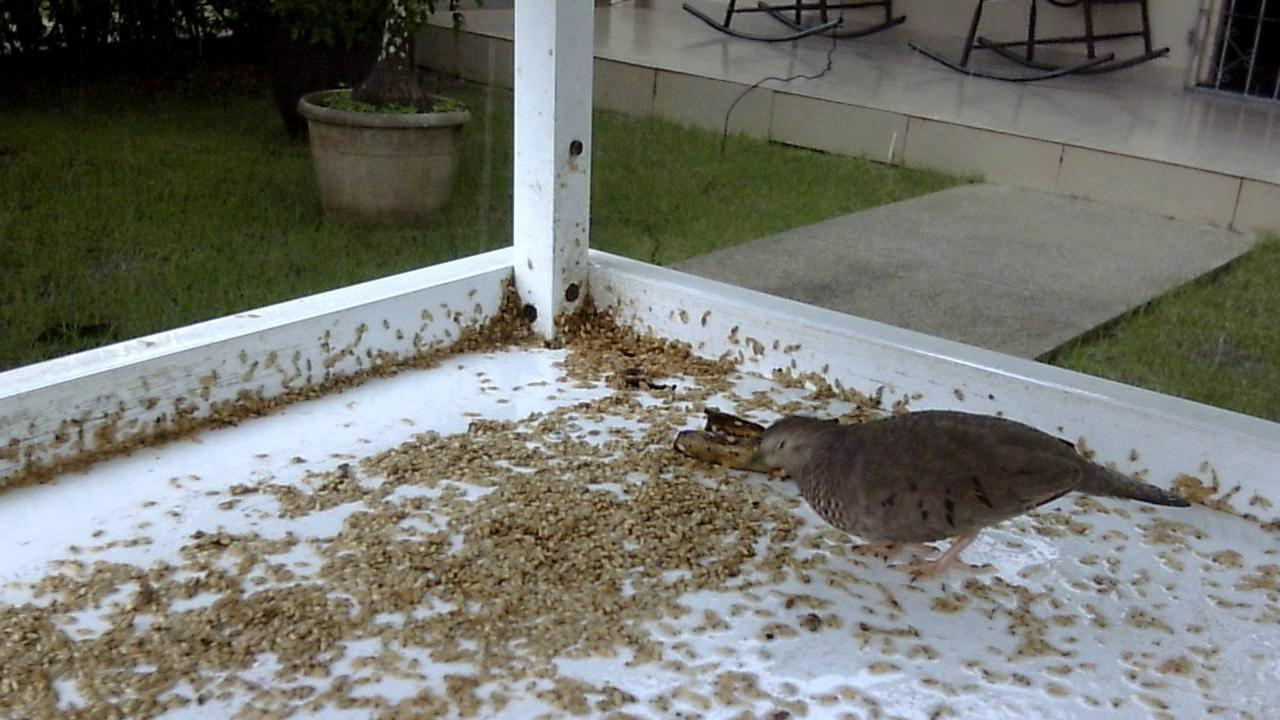rolinha: (687, 392, 1229, 589)
